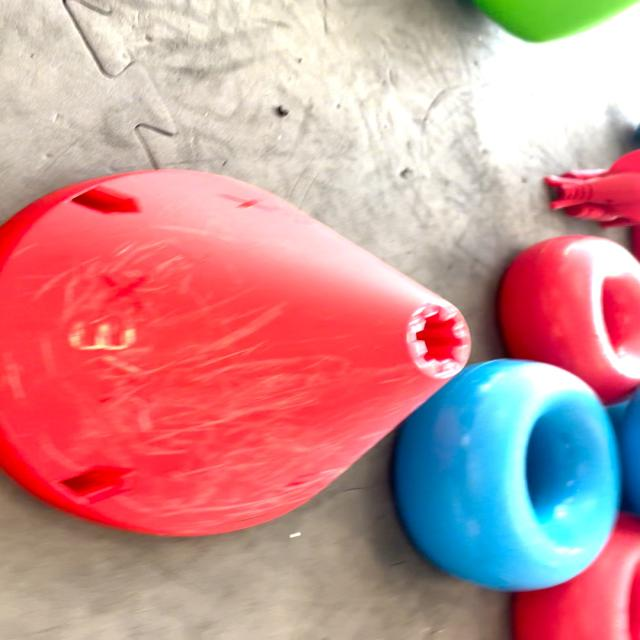Blue-Ring: (393, 359, 620, 591)
Red-Ring: (500, 235, 640, 403), (513, 512, 640, 639)
